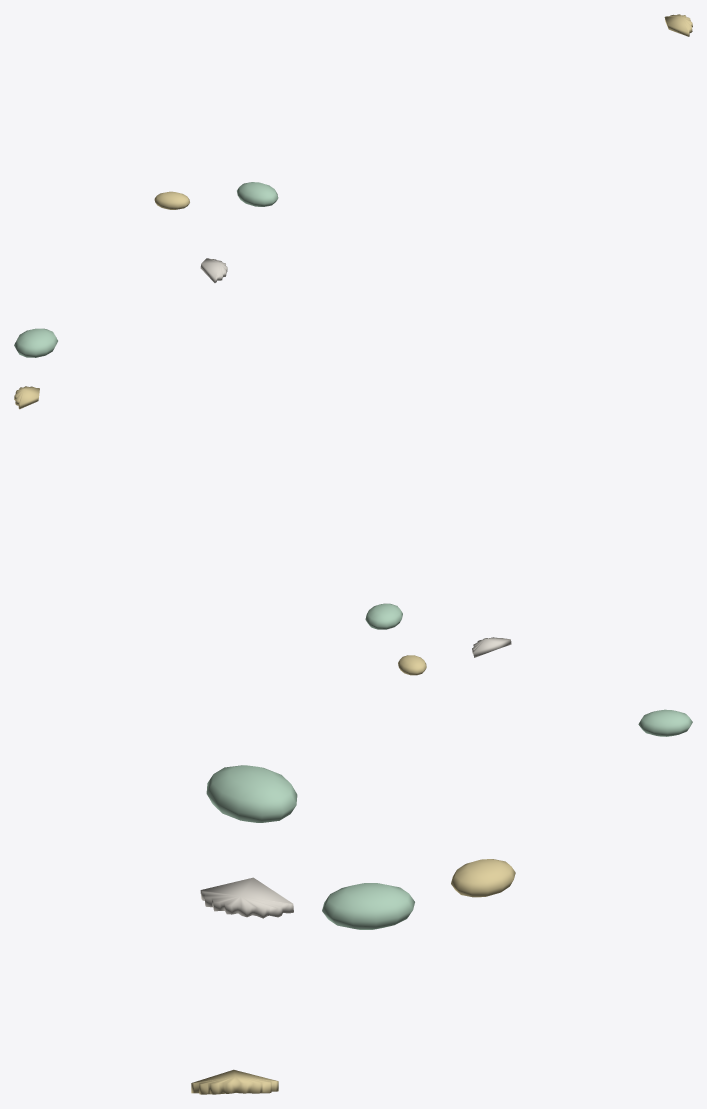
Rendered from W2_FloraRing_10_8.fbx.
3 views of the same model, one above another, from view 1: azimuth 30°, elevation 25°; view 2: azimuth 150°, elevation 25°; view 3: azimuth 270°, elevation 25° (orthographic). The views are drawn at different scales.
Parts seen in each view (by area): view 1: W2_FloraRing_10_8; view 2: W2_FloraRing_10_8; view 3: W2_FloraRing_10_8.
Part boxes in pixels (box(x1,y1,x2,y2)): W2_FloraRing_10_8: box(14, 14, 692, 357); W2_FloraRing_10_8: box(14, 386, 692, 736); W2_FloraRing_10_8: box(191, 765, 515, 1094).
Size of the model in its own units: 2.24 by 0.5832 by 0.47.
